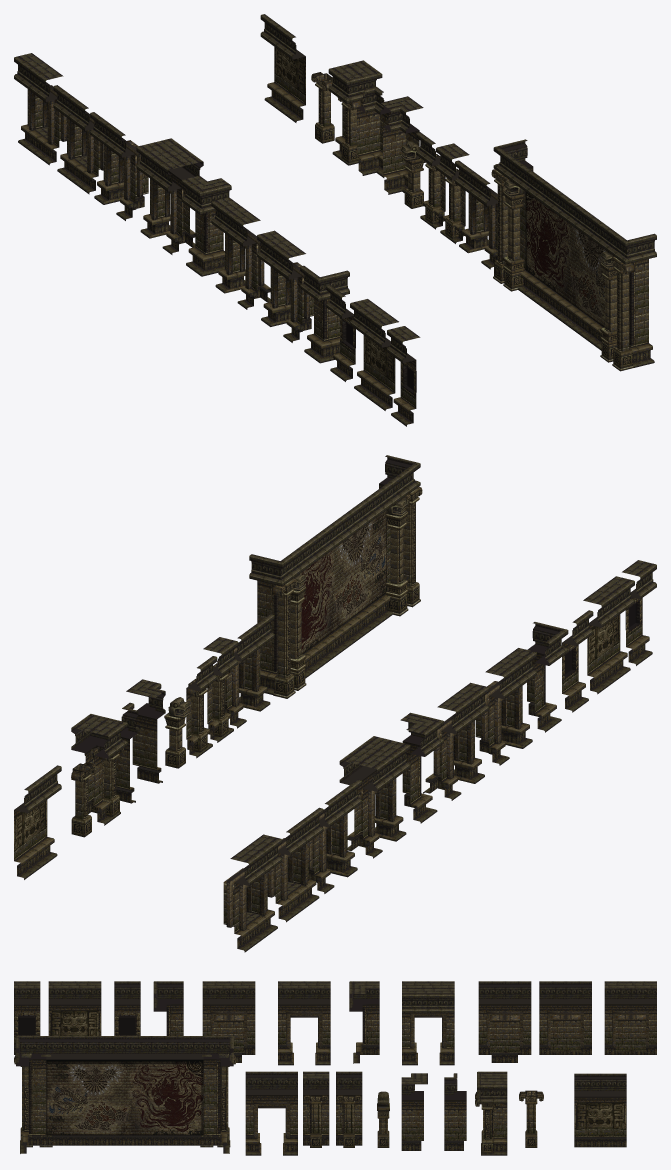
File: EnvMdrMD_Ruins_C_Wall_Arch_A.FBX
3 renders of one model, top to bottom at view 1: azimuth 30°, elevation 25°; view 2: azimuth 150°, elevation 25°; view 3: azimuth 270°, elevation 25°, orthographic. The views are drawn at different scales.
Visible parts, largest first — view 1: EnvMdrMD_Ruins_C_Wall_Fresco_A, EnvMdrMD_Ruins_C_Wall_Door_B, EnvMdrMD_Ruins_C_Wall_Door_A_2F, EnvMdrMD_Ruins_C_Wall_Arch_A_2F, EnvMdrMD_Ruins_C_Wall_Arch_B_2F, EnvMdrMD_Ruins_C_Wall_Arch_A, EnvMdrMD_Ruins_C_Wall_Deco_B_2F, EnvMdrMD_Ruins_C_Wall_CoOut_A_2F, EnvMdrMD_Ruins_C_Wall_Arch_B, EnvMdrMD_Ruins_C_Wall_Deco_B, EnvMdrMD_Ruins_C_Wall_Door_A, EnvMdrMD_Ruins_C_Wall_CoOut_B (+9 smaller); view 2: EnvMdrMD_Ruins_C_Wall_Fresco_A, EnvMdrMD_Ruins_C_Wall_Door_B, EnvMdrMD_Ruins_C_Wall_Arch_B_2F, EnvMdrMD_Ruins_C_Wall_Arch_A_2F, EnvMdrMD_Ruins_C_Wall_Door_A_2F, EnvMdrMD_Ruins_C_Wall_Deco_B_2F, EnvMdrMD_Ruins_C_Wall_CoOut_B, EnvMdrMD_Ruins_C_Wall_Arch_B, EnvMdrMD_Ruins_C_Wall_Arch_A, EnvMdrMD_Ruins_C_Wall_Deco_B, EnvMdrMD_Ruins_C_Wall_Door_A, EnvMdrMD_Ruins_C_Wall_CoOut_A_2F (+9 smaller); view 3: EnvMdrMD_Ruins_C_Wall_Fresco_A, EnvMdrMD_Ruins_C_Wall_Arch_A, EnvMdrMD_Ruins_C_Wall_Deco_B, EnvMdrMD_Ruins_C_Wall_Arch_B, EnvMdrMD_Ruins_C_Wall_Arch_B_2F, EnvMdrMD_Ruins_C_Wall_Arch_A_2F, EnvMdrMD_Ruins_C_Wall_Door_A, EnvMdrMD_Ruins_C_Wall_Door_A_2F, EnvMdrMD_Ruins_C_Wall_Door_B, EnvMdrMD_Ruins_C_Wall_Deco_B_2F, EnvMdrMD_Ruins_C_Wall_CoOut_B, EnvMdrMD_Ruins_C_Wall_Deco_C (+9 smaller).
Part boxes in pixels (x1,y1,x2,y2): EnvMdrMD_Ruins_C_Wall_Fresco_A: (491, 139, 656, 371); EnvMdrMD_Ruins_C_Wall_Door_B: (136, 138, 203, 254); EnvMdrMD_Ruins_C_Wall_Door_A_2F: (211, 197, 270, 309); EnvMdrMD_Ruins_C_Wall_Arch_A_2F: (257, 230, 313, 342); EnvMdrMD_Ruins_C_Wall_Arch_B_2F: (14, 53, 66, 165); EnvMdrMD_Ruins_C_Wall_Arch_A: (90, 112, 148, 220); EnvMdrMD_Ruins_C_Wall_Deco_B_2F: (350, 299, 398, 410); EnvMdrMD_Ruins_C_Wall_CoOut_A_2F: (181, 175, 231, 276); EnvMdrMD_Ruins_C_Wall_Arch_B: (53, 85, 103, 194); EnvMdrMD_Ruins_C_Wall_Deco_B: (260, 14, 305, 122); EnvMdrMD_Ruins_C_Wall_Door_A: (455, 160, 497, 269); EnvMdrMD_Ruins_C_Wall_CoOut_B: (328, 60, 382, 165); EnvMdrMD_Ruins_C_Wall_Fresco_A: (249, 455, 422, 698); EnvMdrMD_Ruins_C_Wall_Door_B: (339, 736, 410, 858); EnvMdrMD_Ruins_C_Wall_Arch_B_2F: (223, 834, 282, 952); EnvMdrMD_Ruins_C_Wall_Arch_A_2F: (475, 648, 536, 765); EnvMdrMD_Ruins_C_Wall_Door_A_2F: (423, 682, 489, 800); EnvMdrMD_Ruins_C_Wall_Deco_B_2F: (583, 576, 634, 694); EnvMdrMD_Ruins_C_Wall_CoOut_B: (71, 714, 127, 825); EnvMdrMD_Ruins_C_Wall_Arch_B: (267, 807, 323, 922); EnvMdrMD_Ruins_C_Wall_Arch_A: (309, 779, 361, 893); EnvMdrMD_Ruins_C_Wall_Deco_B: (14, 765, 61, 879); EnvMdrMD_Ruins_C_Wall_Door_A: (219, 614, 274, 728); EnvMdrMD_Ruins_C_Wall_CoOut_A_2F: (400, 712, 443, 823); EnvMdrMD_Ruins_C_Wall_Fresco_A: (14, 1036, 236, 1153); EnvMdrMD_Ruins_C_Wall_Arch_A: (478, 981, 531, 1062); EnvMdrMD_Ruins_C_Wall_Deco_B: (574, 1073, 626, 1147); EnvMdrMD_Ruins_C_Wall_Arch_B: (539, 981, 591, 1054); EnvMdrMD_Ruins_C_Wall_Arch_B_2F: (604, 981, 656, 1054); EnvMdrMD_Ruins_C_Wall_Arch_A_2F: (202, 981, 255, 1062); EnvMdrMD_Ruins_C_Wall_Door_A: (245, 1071, 297, 1155); EnvMdrMD_Ruins_C_Wall_Door_A_2F: (278, 981, 330, 1065); EnvMdrMD_Ruins_C_Wall_Door_B: (402, 981, 454, 1065); EnvMdrMD_Ruins_C_Wall_Deco_B_2F: (48, 981, 101, 1035); EnvMdrMD_Ruins_C_Wall_CoOut_B: (475, 1071, 507, 1155); EnvMdrMD_Ruins_C_Wall_Deco_C: (336, 1071, 362, 1147).
Size of the model in its own units: 1891 by 900 by 4902.
Materials: 1 (1 with a texture image).
